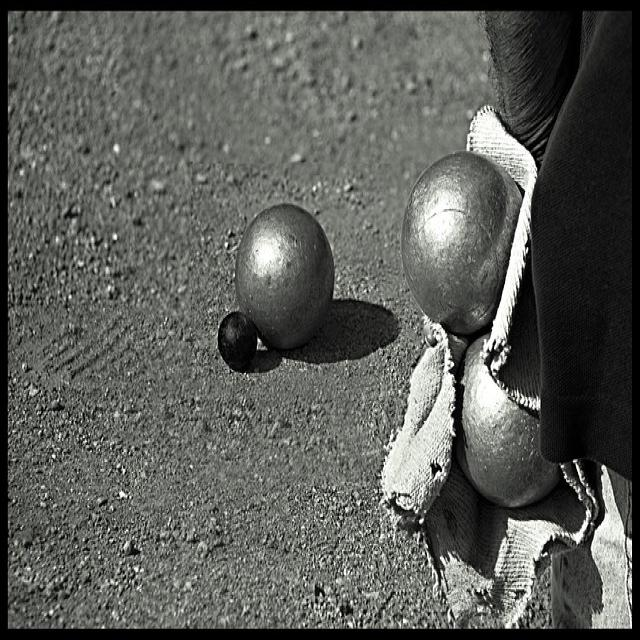hatball: (219, 307, 261, 373)
petanque: (396, 143, 531, 344), (445, 329, 566, 514), (233, 206, 339, 362)
